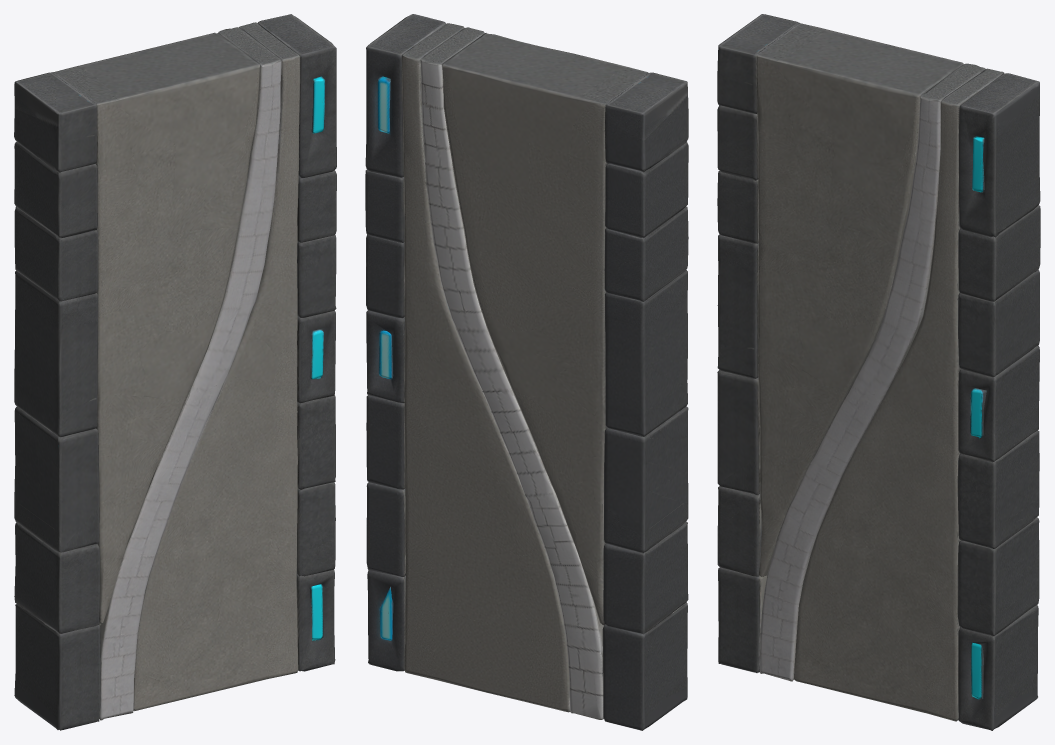
Rendered from midori_path_straight.glb.
3 views of the same model, side by side, from view 1: azimuth 30°, elevation 25°; view 2: azimuth 150°, elevation 25°; view 3: azimuth 330°, elevation 25° (orthographic).
Bounding box in the file's own units: 0.4746 × 1 × 0.1372.
Materials: 1 (1 with a texture image).
